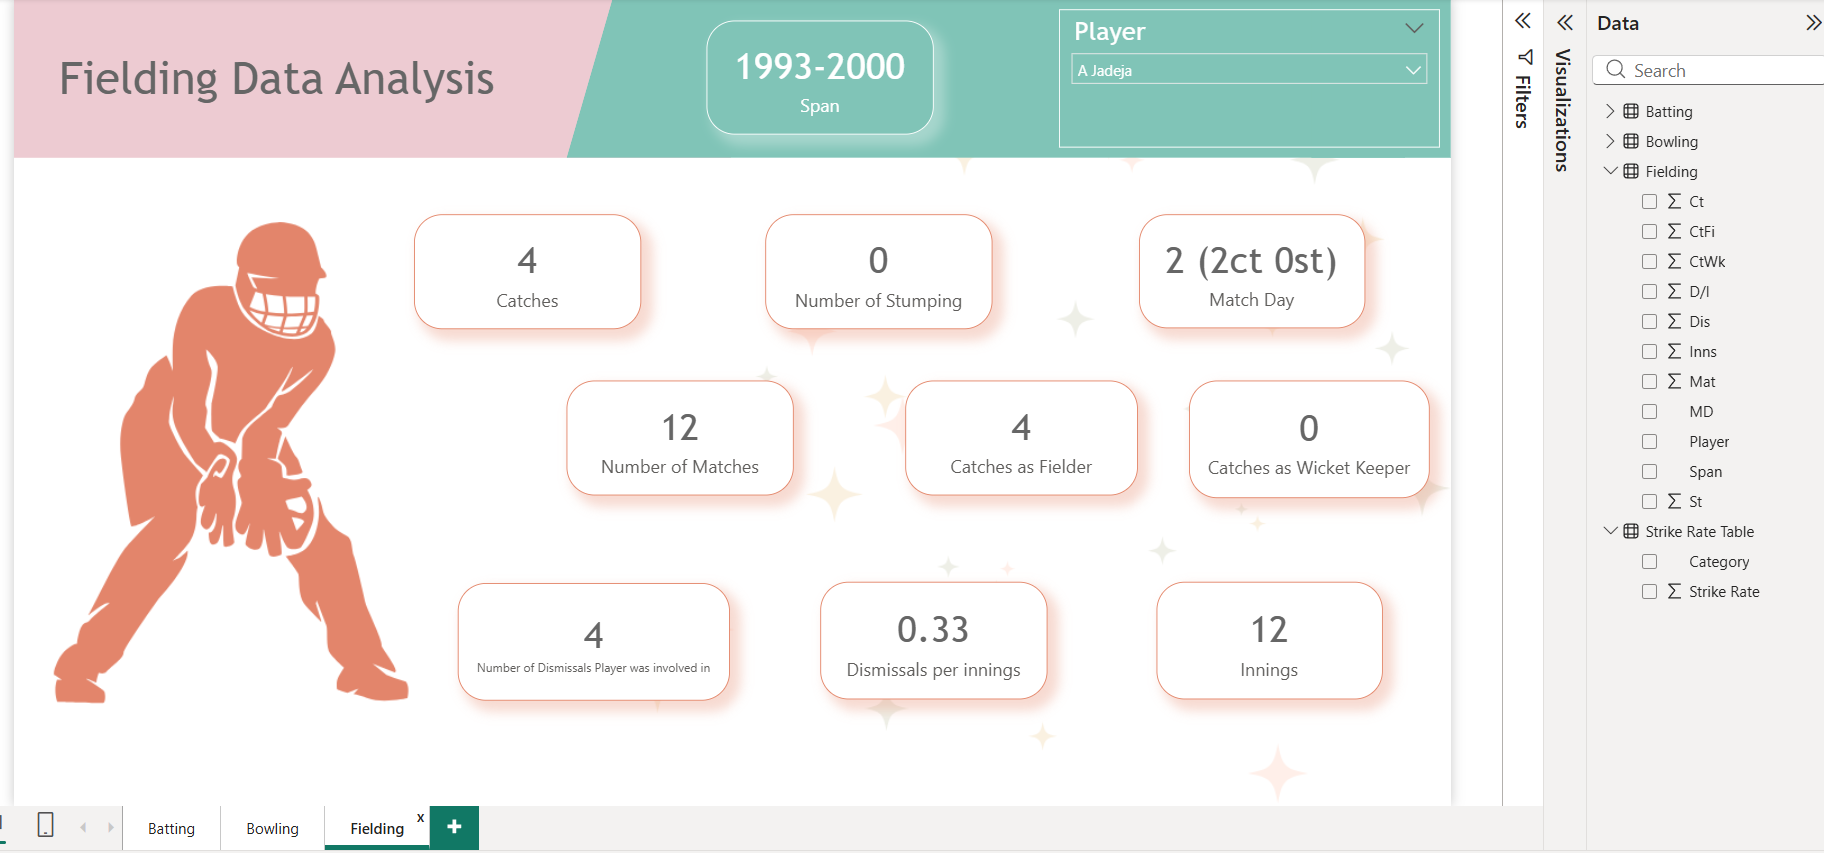

Layout of this report page (visuals, bound fields, positions):
{"tool":"powerbi","page":{"name":"Fielding","canvas":[1280,720],"ordinal":2},"visuals":[{"type":"shape","box":[0,0,638.5,142.3],"z":0},{"type":"shape","box":[492.2,0,787.8,142.4],"z":1000},{"type":"shape","box":[1155.9,0,124.1,142.3],"z":2000},{"type":"slicer","fields":{"Values":["Fielding.Player"]},"box":[930.2,9.7,339,123.1],"z":2001},{"type":"card","fields":{"Values":["Min(Fielding.Span)"]},"box":[616.5,20.5,202.7,101.3],"z":2002},{"type":"card","fields":{"Values":["Sum(Fielding.St)"]},"box":[669.6,193,202.7,102.5],"z":2003},{"type":"card","fields":{"Values":["Min(Fielding.MD)"]},"box":[1001.3,193,201.5,101.3],"z":2004},{"type":"card","fields":{"Values":["Sum(Fielding.Mat)"]},"box":[492.2,340.2,202.7,102.5],"z":2005},{"type":"card","fields":{"Values":["Sum(Fielding.Inns)"]},"box":[1017,520,201.5,105],"z":2006},{"type":"card","fields":{"Values":["Sum(Fielding.Dis)"]},"box":[395.7,521.2,242.5,105],"z":2007},{"type":"card","fields":{"Values":["Sum(Fielding.D/I)"]},"box":[717.8,520,202.7,105],"z":2008},{"type":"card","fields":{"Values":["Sum(Fielding.CtWk)"]},"box":[1046,340.2,214.7,105],"z":2009},{"type":"card","fields":{"Values":["Sum(Fielding.CtFi)"]},"box":[793.8,340.2,207.5,102.5],"z":2010},{"type":"card","fields":{"Values":["Sum(Fielding.Ct)"]},"box":[355.9,193,202.7,102.5],"z":2011}]}

Visuals, with their boxes on the page's 1280x720 design canvas (x1, y1, x2, y2). These are canvas units, not pixel positions in the 1824x853 screenshot, which may show the page scaled, cropped or inside an application window:
shape: <box>0,0,638,142</box>
shape: <box>492,0,1280,142</box>
shape: <box>1156,0,1280,142</box>
slicer - Fielding.Player: <box>930,10,1269,133</box>
card - Min(Fielding.Span): <box>616,20,819,122</box>
card - Sum(Fielding.St): <box>670,193,872,296</box>
card - Min(Fielding.MD): <box>1001,193,1203,294</box>
card - Sum(Fielding.Mat): <box>492,340,695,443</box>
card - Sum(Fielding.Inns): <box>1017,520,1218,625</box>
card - Sum(Fielding.Dis): <box>396,521,638,626</box>
card - Sum(Fielding.D/I): <box>718,520,920,625</box>
card - Sum(Fielding.CtWk): <box>1046,340,1261,445</box>
card - Sum(Fielding.CtFi): <box>794,340,1001,443</box>
card - Sum(Fielding.Ct): <box>356,193,559,296</box>
